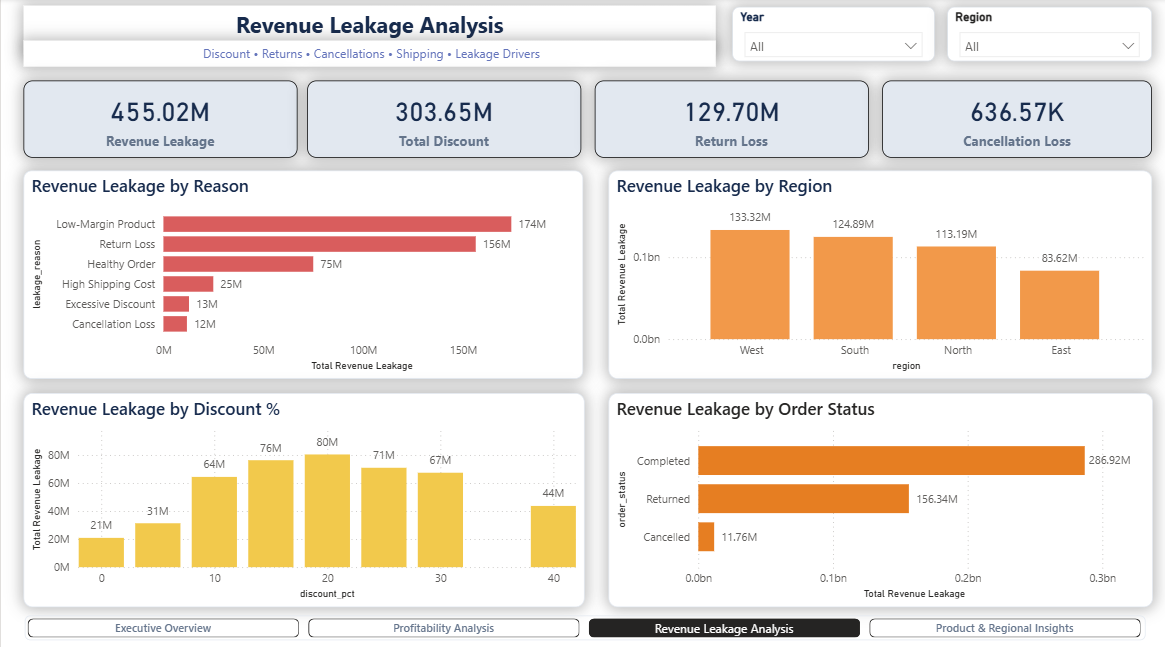

This screenshot's page, from the dashboard's own definition file:
{"tool":"powerbi","page":{"name":"Revenue Leakage Analysis","canvas":[1280,720],"ordinal":2},"visuals":[{"type":"textbox","box":[24.7,8.2,760.2,53.5],"z":0},{"type":"textbox","box":[24.7,46.7,760.2,28.8],"z":1000},{"type":"slicer","title":"Year","fields":{"Values":["DateTable.Year"]},"box":[802.7,9.6,222.3,60.4],"z":2000},{"type":"slicer","title":"Region","fields":{"Values":["public ecommerce_transactions.region"]},"box":[1038.8,9.6,225,60.4],"z":3000},{"type":"card","fields":{"Values":["public ecommerce_transactions.Total Revenue Leakage"]},"box":[24.7,90.6,300.5,85.1],"z":4000},{"type":"card","fields":{"Values":["public ecommerce_transactions.Total Discount"]},"box":[336.2,90.6,300.5,85.1],"z":5000},{"type":"card","fields":{"Values":["public ecommerce_transactions.Return Loss"]},"box":[651.8,90.6,300.5,85.1],"z":6000},{"type":"card","fields":{"Values":["public ecommerce_transactions.Cancellation Loss"]},"box":[967.4,90.6,296.4,85.1],"z":7000},{"type":"clusteredBarChart","title":"Revenue Leakage by Reason","fields":{"Category":["public ecommerce_transactions.leakage_reason"],"Y":["public ecommerce_transactions.Total Revenue Leakage"]},"box":[24.7,189.4,614.8,229.2],"z":8000},{"type":"clusteredColumnChart","title":"Revenue Leakage by Region","fields":{"Category":["public ecommerce_transactions.region"],"Y":["public ecommerce_transactions.Total Revenue Leakage"]},"box":[666.9,189.4,596.9,229.2],"z":9000},{"type":"clusteredColumnChart","title":"Revenue Leakage by Discount %","fields":{"Category":["public ecommerce_transactions.discount_pct"],"Y":["public ecommerce_transactions.Total Revenue Leakage"]},"box":[24.2,433.3,615.8,235.2],"z":10000},{"type":"clusteredBarChart","title":"Revenue Leakage by Order Status","fields":{"Category":["public ecommerce_transactions.order_status"],"Y":["public ecommerce_transactions.Total Revenue Leakage"]},"box":[667.1,433.3,597.2,235.2],"z":11000},{"type":"pageNavigator","box":[25.7,678.5,1230.1,27.1],"z":12000}]}

Visuals, with their boxes in screenshot pixels (x1, y1, x2, y2), scaled from the page's 1280x720 canvas onto the 1165x647 screenshot:
textbox: BBox(22, 7, 714, 55)
textbox: BBox(22, 42, 714, 68)
"Year" slicer: BBox(731, 9, 933, 63)
"Region" slicer: BBox(945, 9, 1150, 63)
card - public ecommerce_transactions.Total Revenue Leakage: BBox(22, 81, 296, 158)
card - public ecommerce_transactions.Total Discount: BBox(306, 81, 579, 158)
card - public ecommerce_transactions.Return Loss: BBox(593, 81, 867, 158)
card - public ecommerce_transactions.Cancellation Loss: BBox(880, 81, 1150, 158)
"Revenue Leakage by Reason" clusteredBarChart: BBox(22, 170, 582, 376)
"Revenue Leakage by Region" clusteredColumnChart: BBox(607, 170, 1150, 376)
"Revenue Leakage by Discount %" clusteredColumnChart: BBox(22, 389, 582, 601)
"Revenue Leakage by Order Status" clusteredBarChart: BBox(607, 389, 1151, 601)
pageNavigator: BBox(23, 610, 1143, 634)
